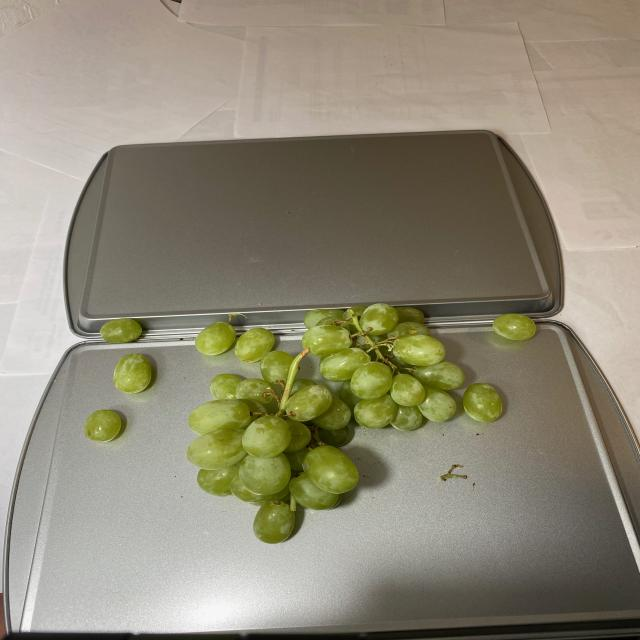Grapes: (82, 301, 546, 545)
